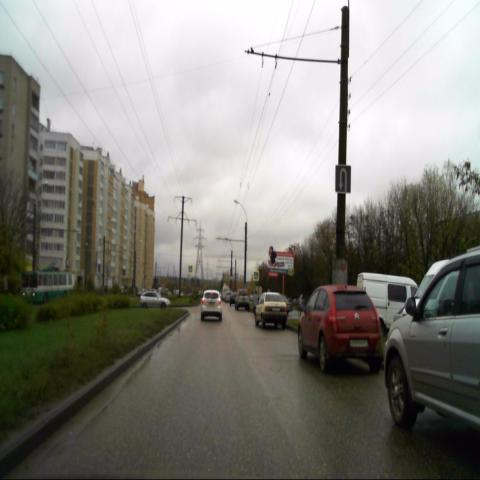6_3_1: (336, 166, 352, 194)
